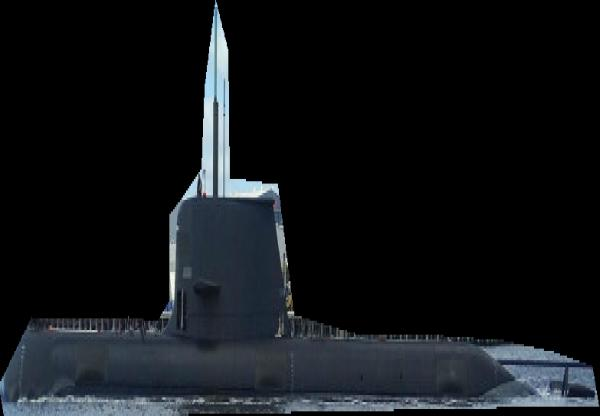Submarine: (0, 1, 599, 416)
